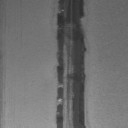slag inclusion: (56, 0, 88, 128), (56, 103, 64, 128), (56, 87, 64, 100)
